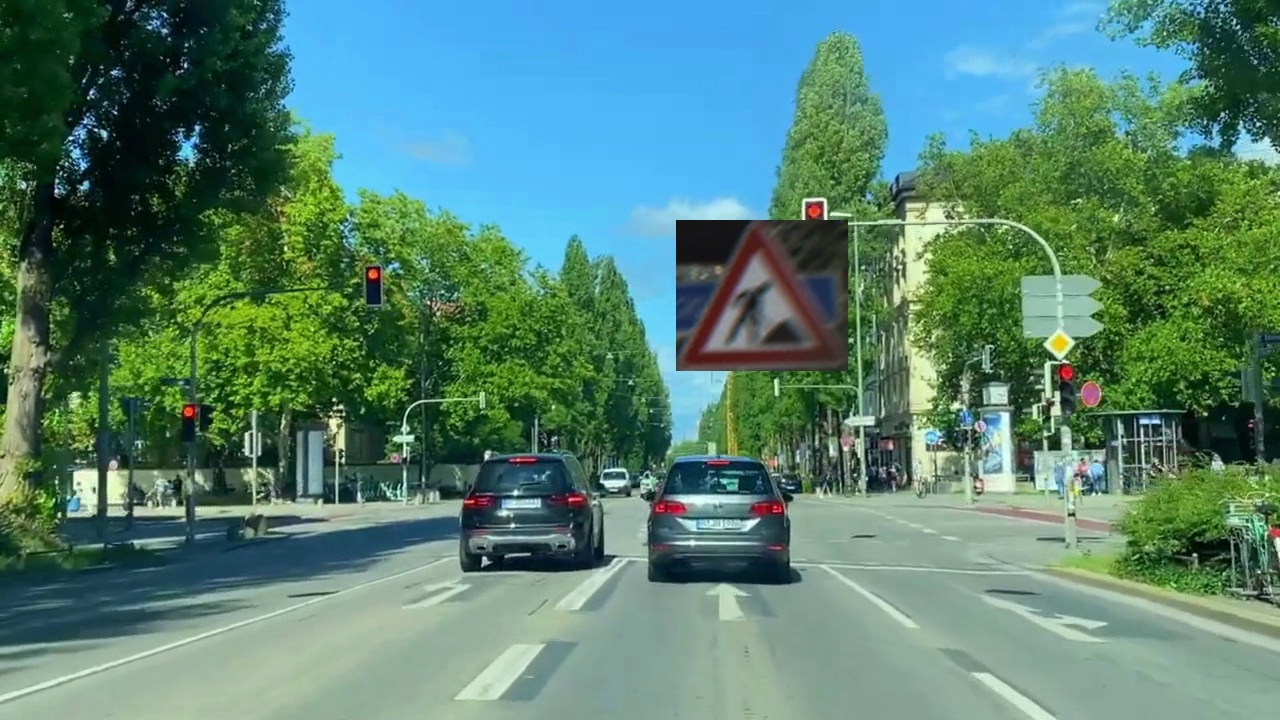Road work: (676, 220, 848, 371)
